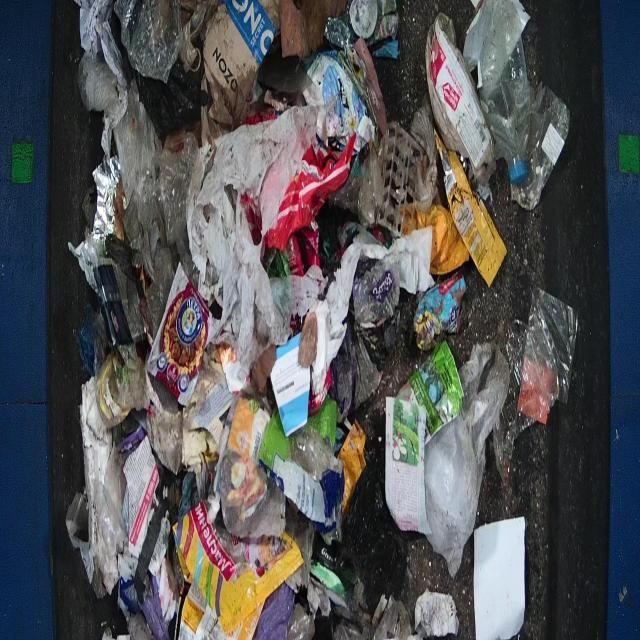other-trash: (64, 0, 578, 638)
